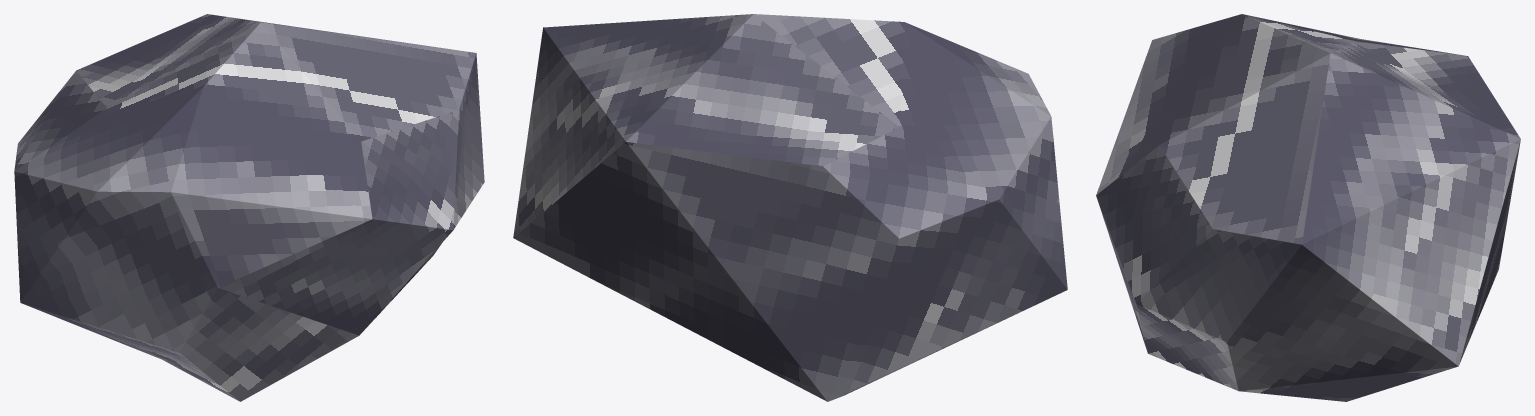
Rendered from Piedra 4.fbx.
3 renders of one model, left to right at view 1: azimuth 30°, elevation 25°; view 2: azimuth 150°, elevation 25°; view 3: azimuth 270°, elevation 25°, orthographic. The views are drawn at different scales.
Parts seen in each view (by area): view 1: Icosphere; view 2: Icosphere; view 3: Icosphere.
Part boxes in pixels (x1,y1,x2,y2): Icosphere: [14, 14, 484, 401]; Icosphere: [513, 14, 1067, 401]; Icosphere: [1096, 14, 1520, 401].
Bounding box in the file's own units: 288 × 184 × 203.
Materials: 1 (1 with a texture image).
